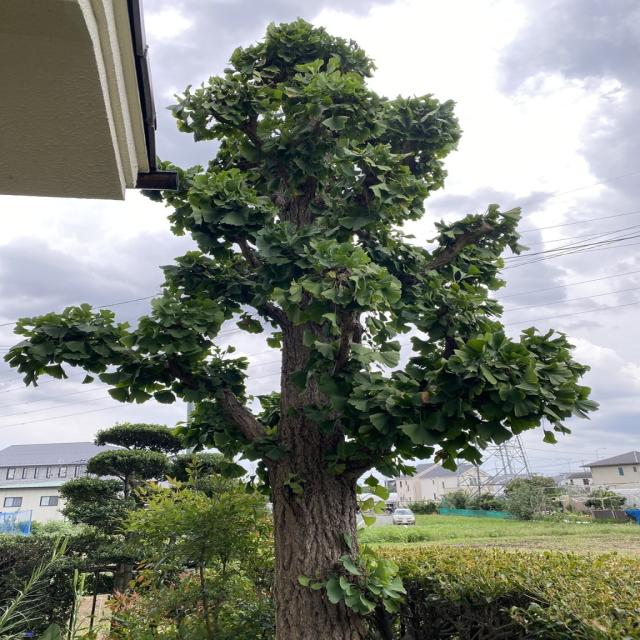ginkgo: (7, 15, 602, 640)
